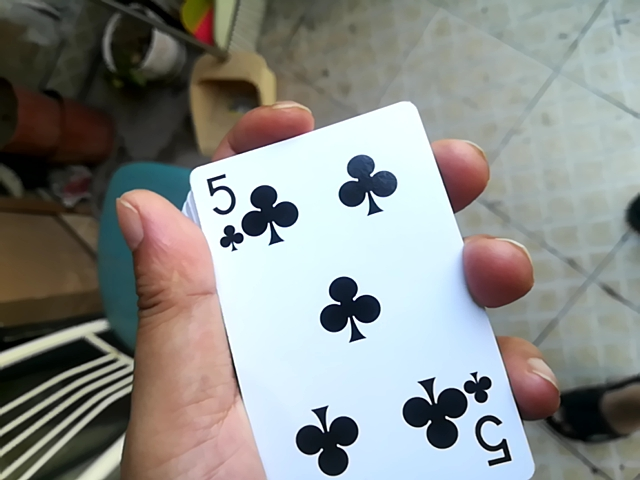mh 5: (165, 89, 506, 480)
